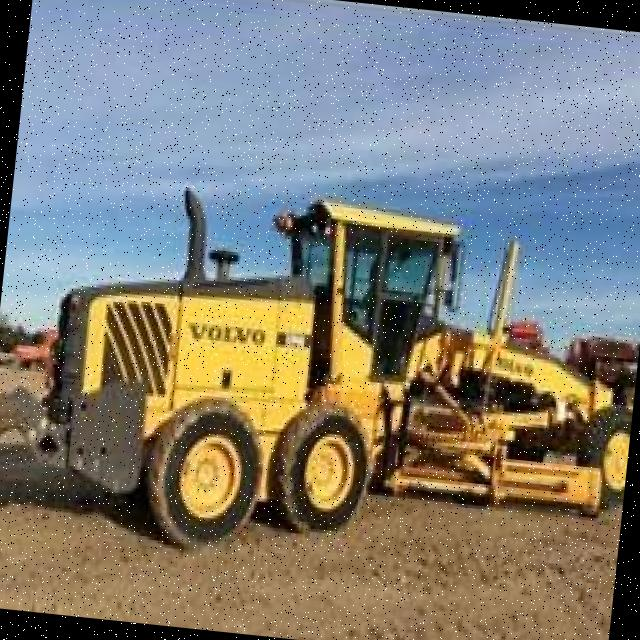Grader: (0, 130, 640, 588)
